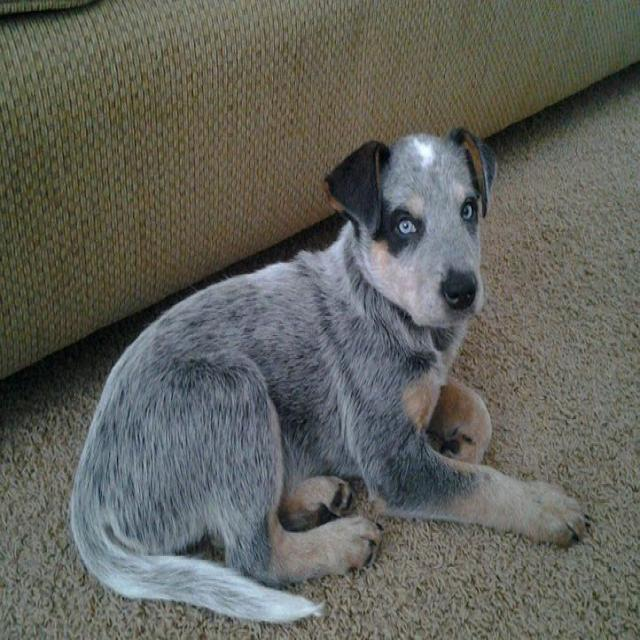dog: (278, 80, 514, 380)
